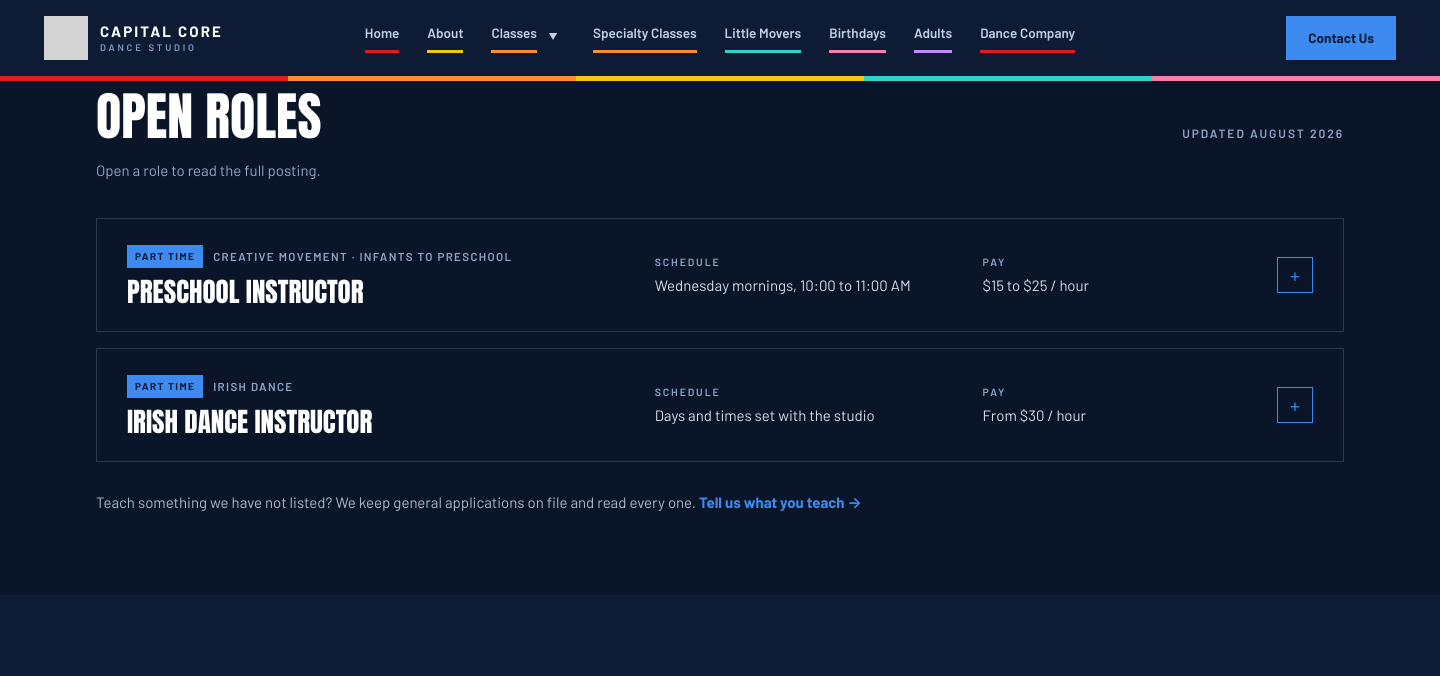
Test case: the Irish dance posting promises nothing the studio has not agreed to
(page scrolled)
Click the button "Irish Dance Instructor" at (720, 405), box x1=97 y1=349 x2=1343 y2=461
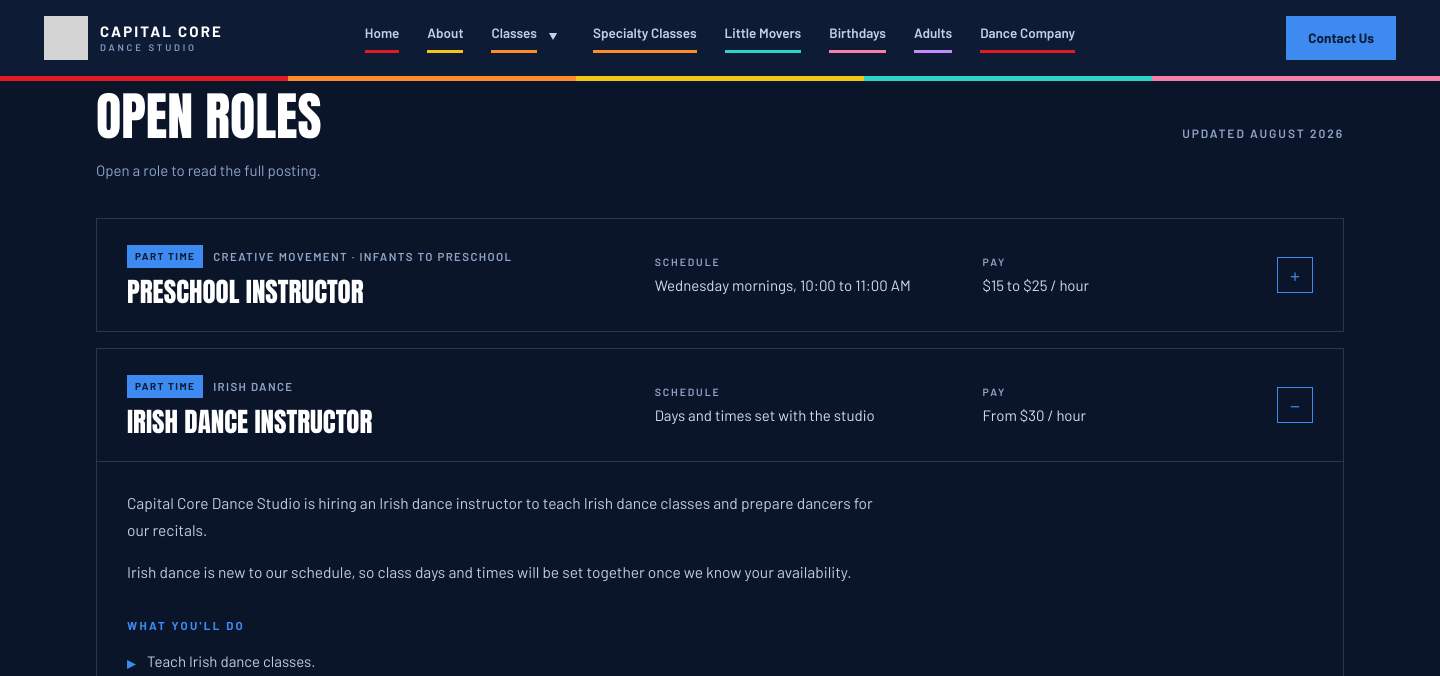
Now the text "prepare dancers for our recitals" is shown, box x1=127 y1=493 x2=873 y2=539
